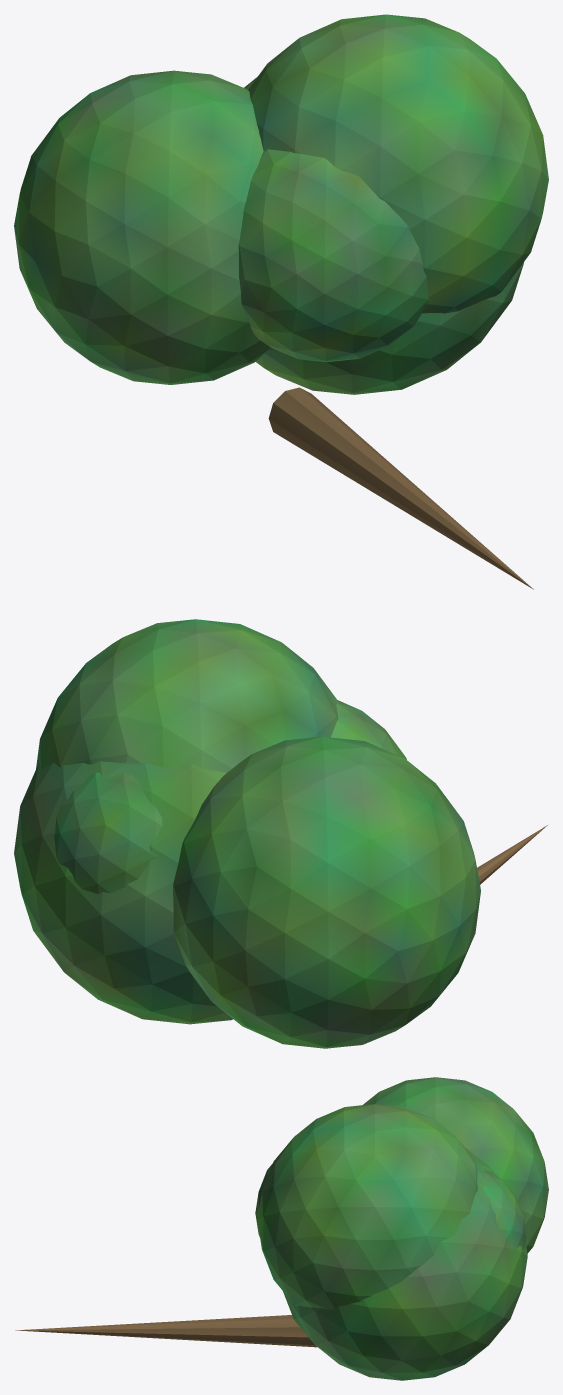
Rendered from tree_1.glb.
3 renders of one model, top to bottom at view 1: azimuth 30°, elevation 25°; view 2: azimuth 150°, elevation 25°; view 3: azimuth 270°, elevation 25°, orthographic. The views are drawn at different scales.
Visible parts, largest first — view 1: world; view 2: world; view 3: world.
Part boxes in pixels (left/top/right/bottom): world: left=14, top=14, right=548, bottom=589; world: left=14, top=619, right=547, bottom=1048; world: left=15, top=1077, right=548, bottom=1380.
Bounding box in the file's own units: 5.67 × 4.53 × 8.17.
